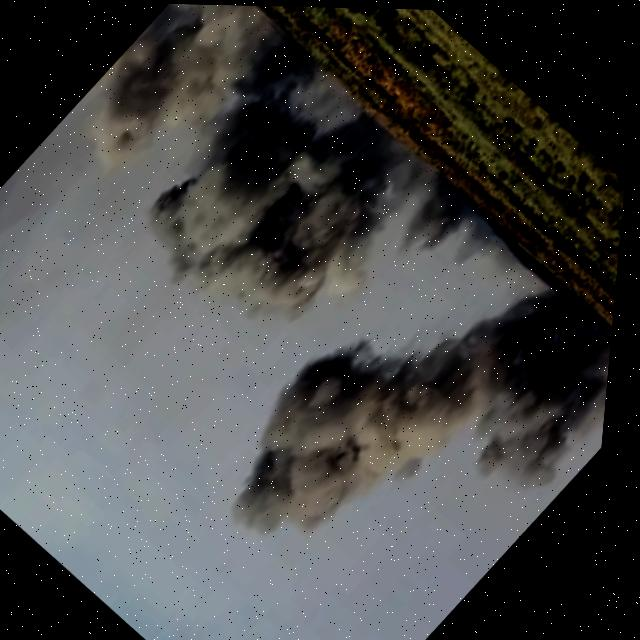Smoke: (198, 192, 627, 640), (135, 49, 490, 388), (63, 1, 320, 205)
